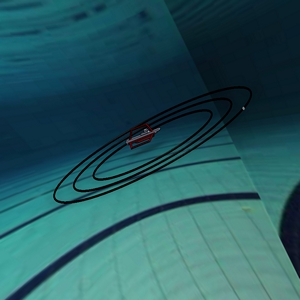circle: (44, 74, 263, 219)
submarine: (115, 112, 171, 159)
